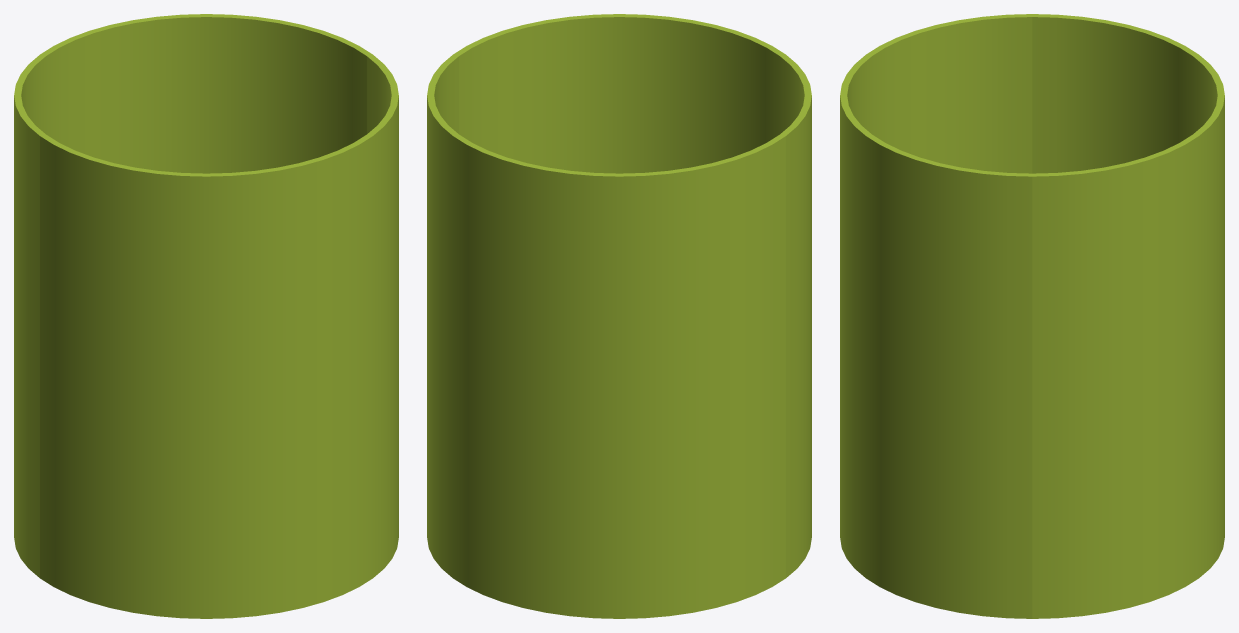
Rendered from activated_alumina_adsorber_pressure.glb.
3 renders of one model, left to right at view 1: azimuth 30°, elevation 25°; view 2: azimuth 150°, elevation 25°; view 3: azimuth 270°, elevation 25°, orthographic.
Parts seen in each view (by area): view 1: bz__front, bz__back; view 2: bz__back, bz__front; view 3: bz__back, bz__front.
Part boxes in pixels (x1=…): bz__front: x1=40, y1=54, x2=398, y2=618; bz__back: x1=14, y1=14, x2=372, y2=577; bz__back: x1=427, y1=54, x2=785, y2=618; bz__front: x1=453, y1=14, x2=811, y2=577; bz__back: x1=1032, y1=14, x2=1224, y2=618; bz__front: x1=840, y1=14, x2=1032, y2=618.
Size of the model in its own units: 1.08 by 1.37 by 1.08.
